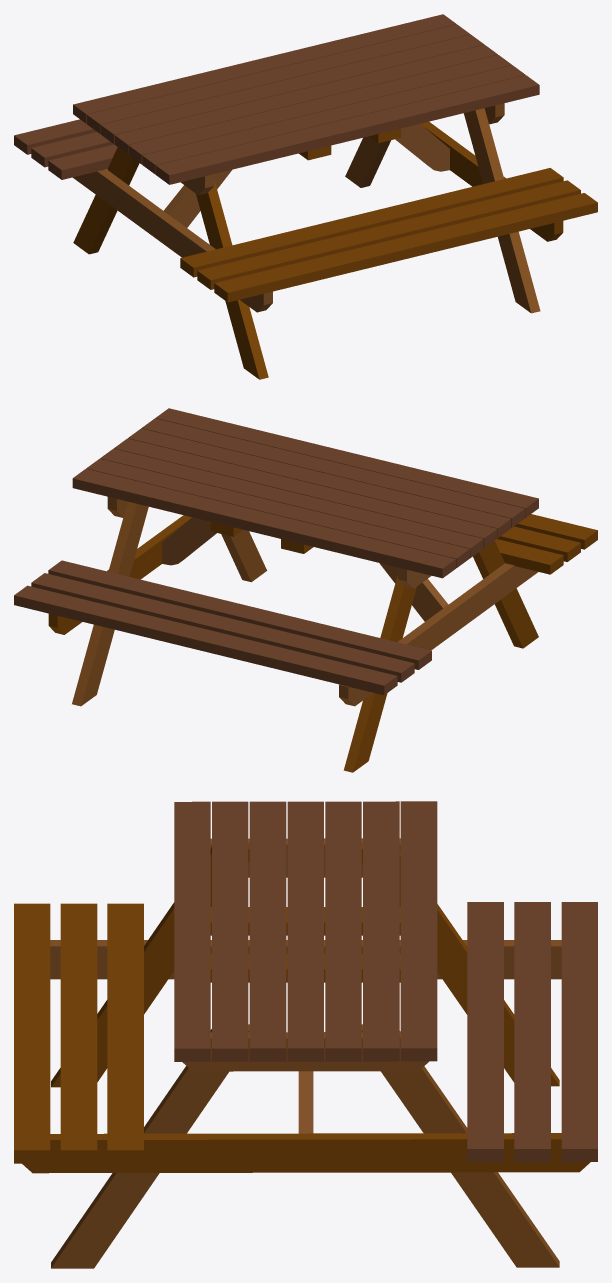
File: picnicTable.glb
3 views of the same model, one above another, from view 1: azimuth 30°, elevation 25°; view 2: azimuth 150°, elevation 25°; view 3: azimuth 270°, elevation 25° (orthographic). The views are drawn at different scales.
Visible parts, largest first — view 1: Cube.022, Cube.023, Cube.031, Cube.006, Cube.030, Cube.029, Cube.028, Cube.004, Cube.001, Cube.024, Cube.021; view 2: Cube.022, Cube.006, Cube.031, Cube.023, Cube.024, Cube.028, Cube.029, Cube.004, Cube.001, Cube.030, Cube.021; view 3: Cube.022, Cube.023, Cube.006, Cube.004, Cube.024, Cube.030, Cube.029, Cube.028, Cube.018, Cube.031, Cube.001.
Boxes of the visible parts, bbox=[...] form: Cube.022: bbox=[73, 14, 539, 184]; Cube.023: bbox=[180, 168, 597, 302]; Cube.031: bbox=[72, 169, 272, 312]; Cube.006: bbox=[14, 119, 117, 179]; Cube.030: bbox=[464, 108, 540, 313]; Cube.029: bbox=[196, 180, 268, 379]; Cube.028: bbox=[73, 147, 139, 254]; Cube.004: bbox=[420, 121, 563, 241]; Cube.001: bbox=[395, 124, 449, 171]; Cube.024: bbox=[345, 136, 390, 187]; Cube.021: bbox=[163, 170, 231, 227]; Cube.022: bbox=[72, 408, 538, 578]; Cube.006: bbox=[14, 560, 431, 695]; Cube.031: bbox=[339, 563, 537, 706]; Cube.023: bbox=[495, 514, 597, 574]; Cube.024: bbox=[72, 501, 148, 706]; Cube.028: bbox=[343, 575, 416, 772]; Cube.029: bbox=[473, 540, 538, 648]; Cube.004: bbox=[48, 515, 191, 634]; Cube.001: bbox=[162, 517, 216, 565]; Cube.030: bbox=[221, 530, 266, 582]; Cube.021: bbox=[379, 563, 448, 621]; Cube.022: bbox=[174, 801, 437, 1061]; Cube.023: bbox=[14, 903, 143, 1163]; Cube.006: bbox=[467, 902, 597, 1161]; Cube.004: bbox=[22, 1133, 590, 1173]; Cube.024: bbox=[361, 1024, 559, 1267]; Cube.030: bbox=[51, 1024, 249, 1268]; Cube.029: bbox=[51, 843, 249, 1087]; Cube.028: bbox=[361, 843, 559, 1086]; Cube.018: bbox=[182, 1032, 428, 1071]; Cube.031: bbox=[50, 940, 561, 979]; Cube.001: bbox=[298, 1071, 313, 1133].
Bounding box in the file's own units: 3.2 × 1.51 × 3.2.
